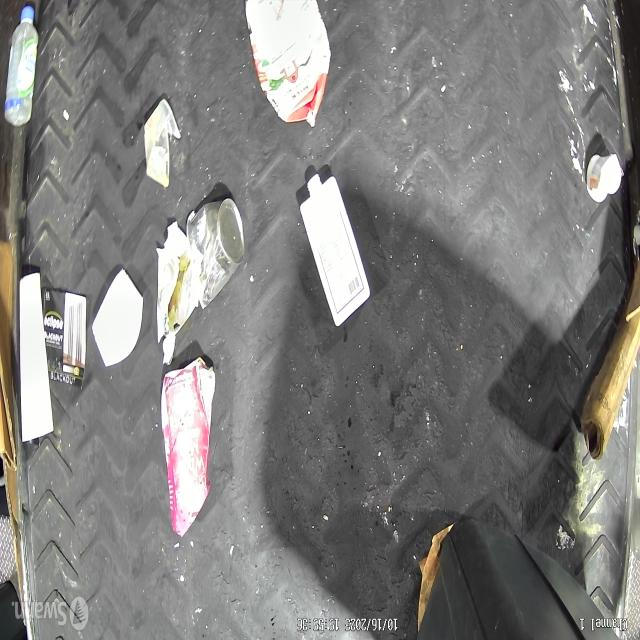can: (182, 188, 245, 312)
plastic_bottle: (2, 0, 40, 133)
